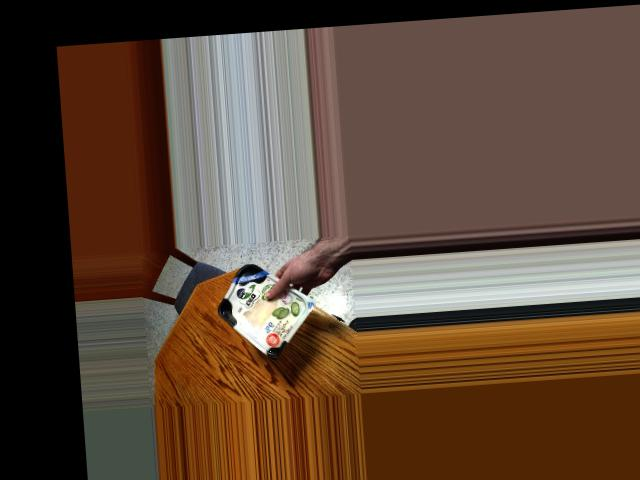cheese: (214, 268, 301, 352)
